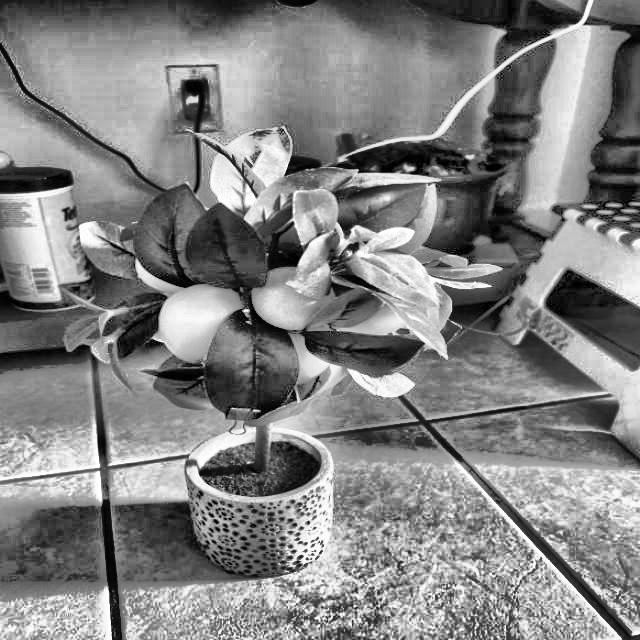plants: (77, 152, 541, 496)
